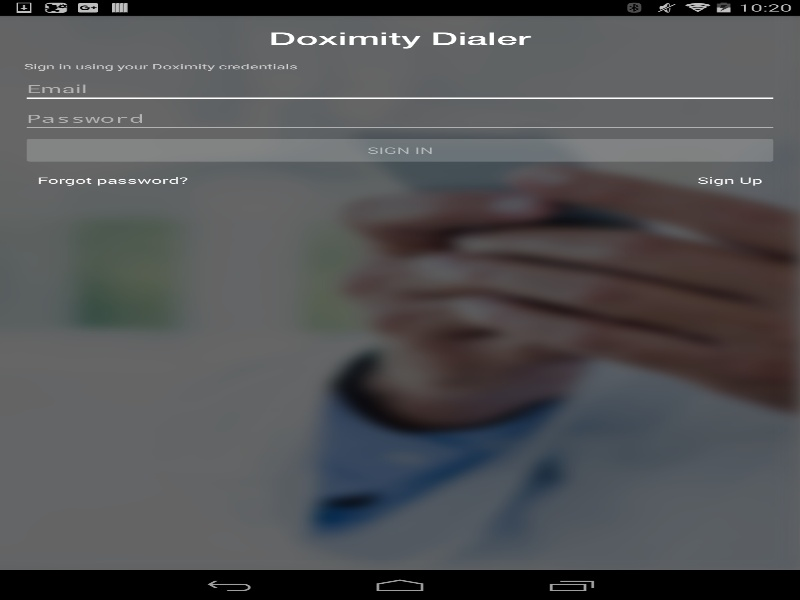Button: (21, 135, 778, 165), (21, 165, 432, 195), (432, 165, 778, 195)
Input: (21, 74, 778, 103), (21, 104, 778, 132)
